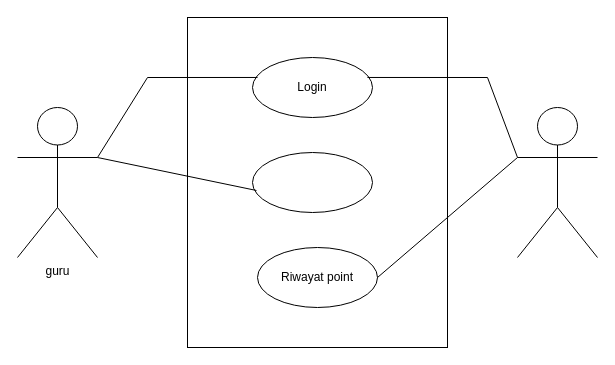
This 615x365 diagram has some shape labels left out. The box of each missing label's shape, as (x1, y1, x2, y2) in pixels:
Daftar point: (252, 152, 372, 212)
siswa: (516, 106, 598, 258)
